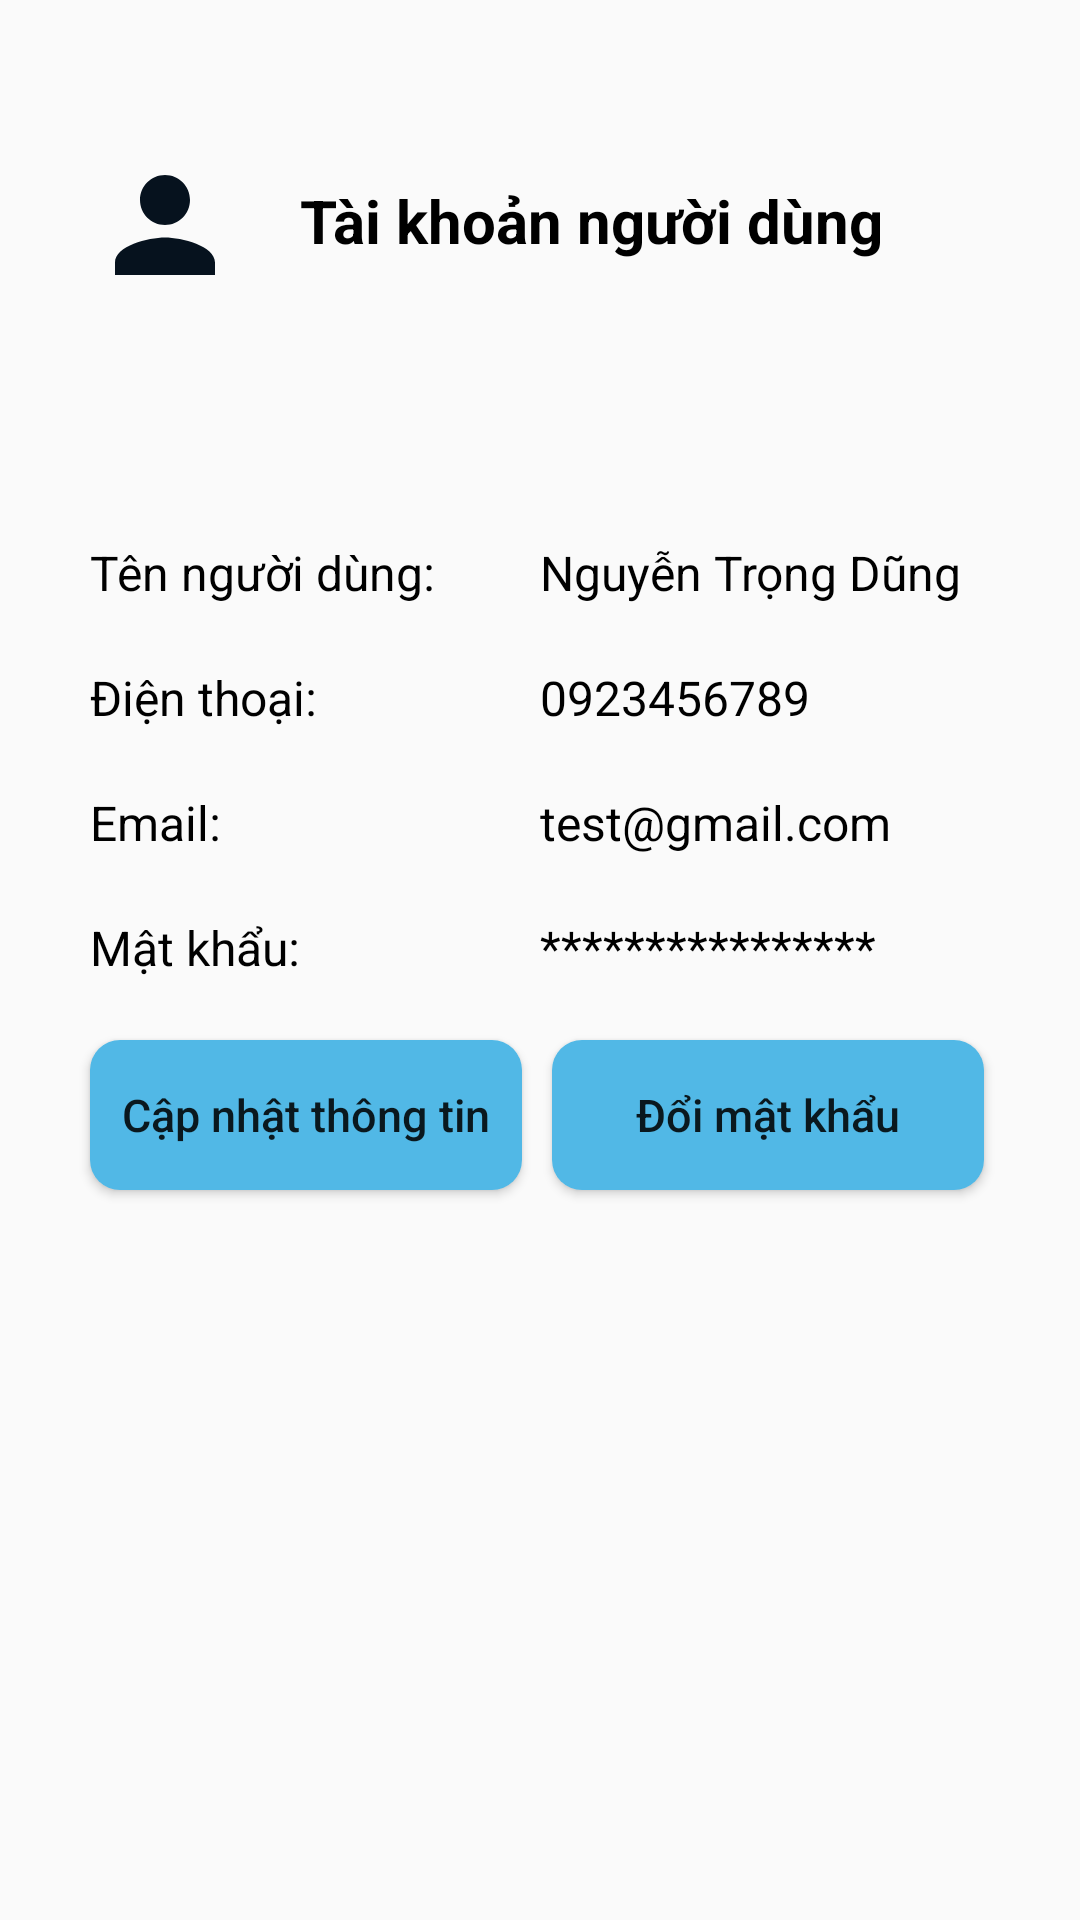

Named icons in this screenshot (1080×1920) and their centers, (x=x, y=y):
person: (x=165, y=225)
